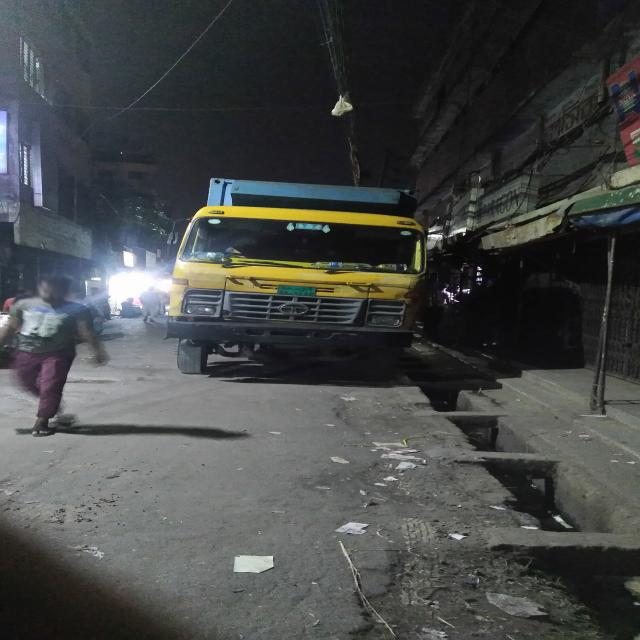truck: (165, 166, 442, 391)
